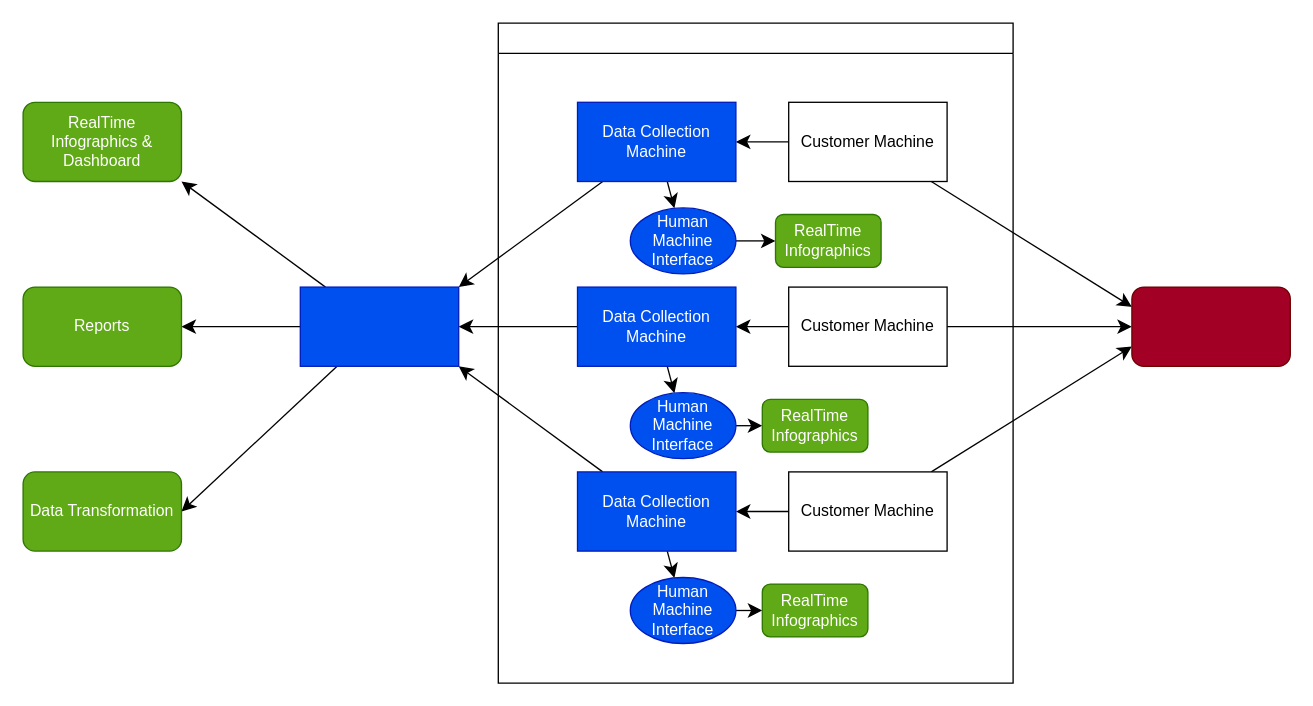
Image size: 1313x706. Some labels were removed from this diagram. The shapes that lost their labels are listed below. From the top down, each one's centre as x and y in pixels, then its label:
point (379, 326): Central Unit
point (1210, 326): Products (Bottles, Caps, Rings, Etc)
point (755, 352): Factory Floor
